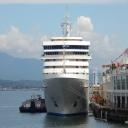cruises: (41, 6, 93, 121)
